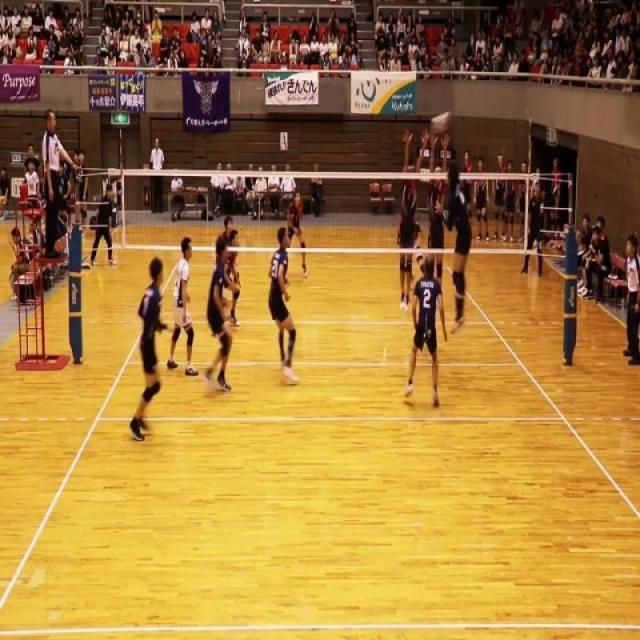volleyball: (430, 111, 451, 135)
